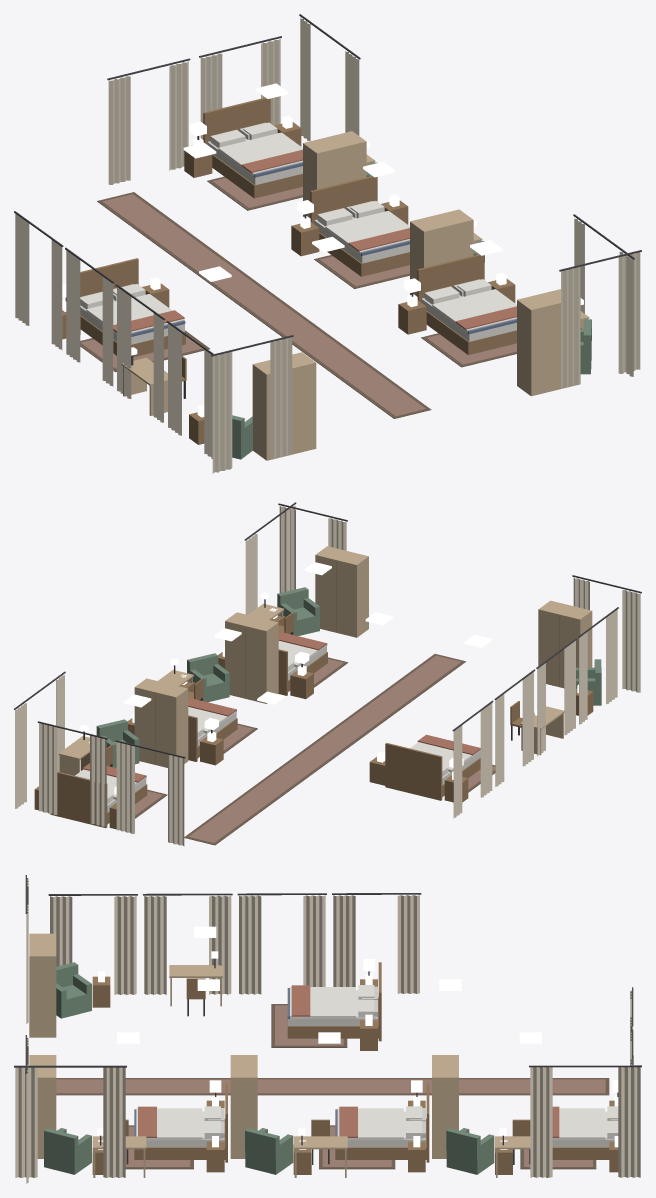
Rendered from fine-s1.glb.
The picture shows the model from 3 angles, top to bottom: view 1: azimuth 30°, elevation 25°; view 2: azimuth 150°, elevation 25°; view 3: azimuth 270°, elevation 25°; orthographic projection. The views are drawn at different scales.
Parts seen in each view (by area): view 1: soft-s1, dresser.003, dresser.000, bed-frame.003, bed-frame.001, bed-frame.002, dresser.001, dresser.002, bed-frame.000, writing-desk.000, nightstand.006, nightstand.004 (+2 smaller); view 2: soft-s1, dresser.003, dresser.002, dresser.001, dresser.000, bed-frame.000, bed-frame.001, lounge-chair.002, lounge-chair.003, lounge-chair.001, bed-frame.003, bed-frame.002 (+6 smaller); view 3: soft-s1, dresser.000, dresser.002, dresser.001, bed-frame.002, bed-frame.000, lounge-chair.001, lounge-chair.002, bed-frame.003, lounge-chair.003, dresser.003, lounge-chair.000 (+11 smaller).
Boxes of the visible parts, bbox=[...] form: soft-s1: bbox=[14, 14, 641, 473]; dresser.003: bbox=[517, 289, 580, 396]; dresser.000: bbox=[252, 352, 316, 460]; bed-frame.003: bbox=[417, 254, 516, 354]; bed-frame.001: bbox=[203, 97, 302, 198]; bed-frame.002: bbox=[310, 176, 409, 276]; dresser.001: bbox=[303, 131, 366, 217]; dresser.002: bbox=[410, 209, 473, 296]; bed-frame.000: bbox=[80, 258, 185, 357]; writing-desk.000: bbox=[121, 347, 167, 415]; nightstand.006: bbox=[398, 294, 426, 334]; nightstand.004: bbox=[291, 216, 319, 256]; soft-s1: bbox=[14, 502, 641, 846]; dresser.003: bbox=[315, 546, 368, 637]; dresser.002: bbox=[225, 612, 278, 703]; dresser.001: bbox=[134, 678, 188, 767]; dresser.000: bbox=[538, 600, 592, 688]; bed-frame.000: bbox=[385, 743, 480, 800]; bed-frame.001: bbox=[50, 771, 147, 827]; lounge-chair.002: bbox=[187, 653, 229, 702]; lounge-chair.003: bbox=[277, 587, 319, 635]; lounge-chair.001: bbox=[96, 719, 139, 767]; bed-frame.003: bbox=[278, 643, 327, 695]; bed-frame.002: bbox=[188, 709, 237, 761]; soft-s1: bbox=[14, 875, 641, 1183]; dresser.000: bbox=[29, 933, 56, 1037]; dresser.002: bbox=[230, 1055, 257, 1158]; dresser.001: bbox=[432, 1055, 458, 1158]; bed-frame.002: bbox=[335, 1083, 429, 1162]; bed-frame.000: bbox=[287, 962, 381, 1041]; lounge-chair.001: bbox=[446, 1128, 494, 1174]; lounge-chair.002: bbox=[245, 1128, 293, 1174]; bed-frame.003: bbox=[134, 1083, 227, 1162]; lounge-chair.003: bbox=[44, 1128, 91, 1174]; dresser.003: bbox=[29, 1055, 56, 1158]; lounge-chair.000: bbox=[56, 962, 91, 1018].
Bounding box in the file's own units: 10.45 × 2.81 × 14.04.
